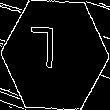L_S: (40, 29, 70, 81)
